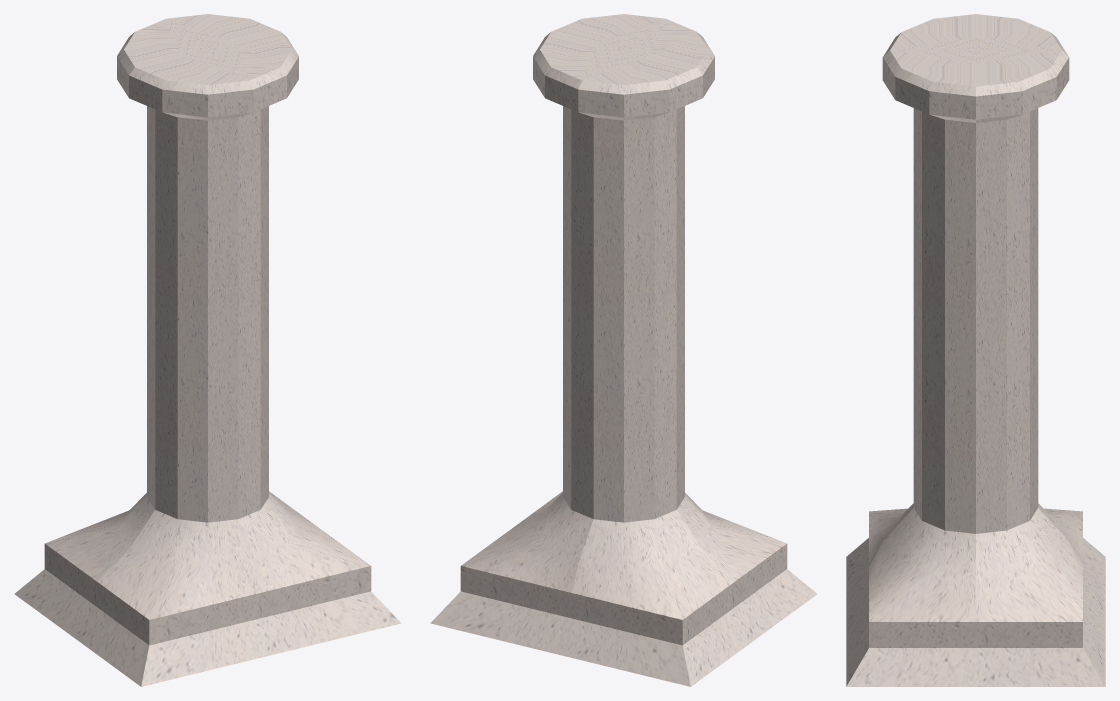
Rendered from pillar.fbx.
3 views of the same model, side by side, from view 1: azimuth 30°, elevation 25°; view 2: azimuth 150°, elevation 25°; view 3: azimuth 270°, elevation 25° (orthographic). The views are drawn at different scales.
Parts seen in each view (by area): view 1: pillar; view 2: pillar; view 3: pillar.
Part boxes in pixels (x1,y1,x2,y2): pillar: [14, 14, 401, 686]; pillar: [430, 14, 817, 686]; pillar: [846, 14, 1105, 686].
Bounding box in the file's own units: 0.488 × 1 × 0.4117.
Materials: 1 (1 with a texture image).
